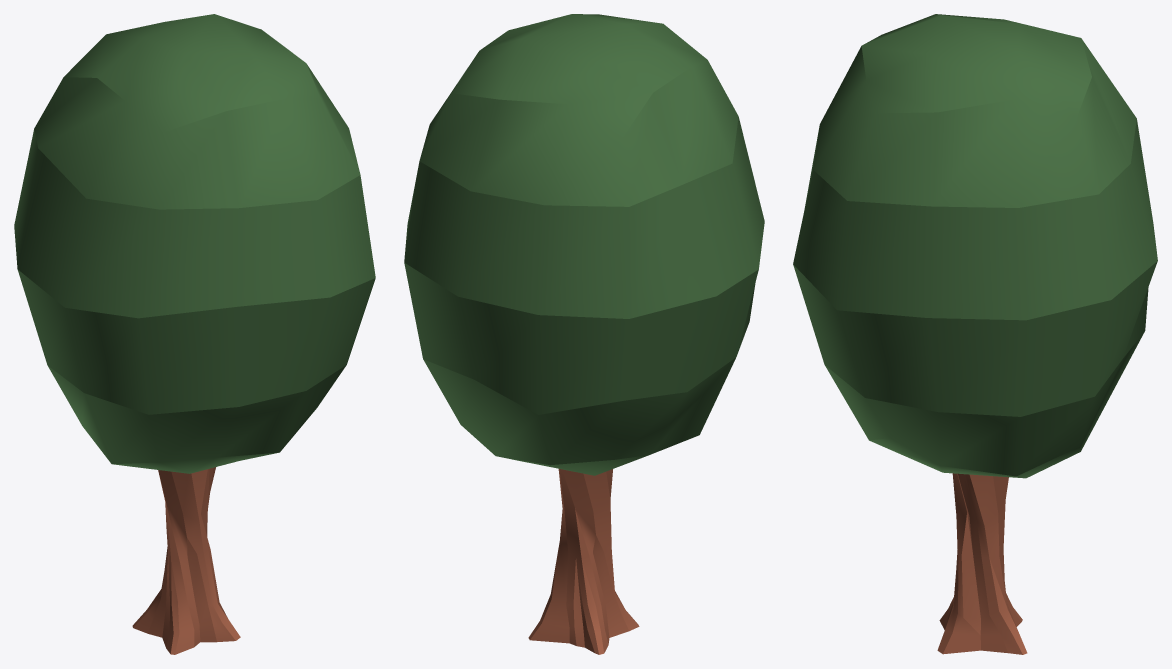
File: Tree_2_Medium.fbx
The picture shows the model from 3 angles, left to right: view 1: azimuth 30°, elevation 25°; view 2: azimuth 150°, elevation 25°; view 3: azimuth 270°, elevation 25°; orthographic projection. The views are drawn at different scales.
Parts seen in each view (by area): view 1: Tree_2_Medium; view 2: Tree_2_Medium; view 3: Tree_2_Medium.
Boxes of the visible parts, <box> form: Tree_2_Medium: <box>14,14,375,654</box>; Tree_2_Medium: <box>404,14,764,654</box>; Tree_2_Medium: <box>793,14,1157,654</box>.
Size of the model in its own units: 101 by 189 by 102.
